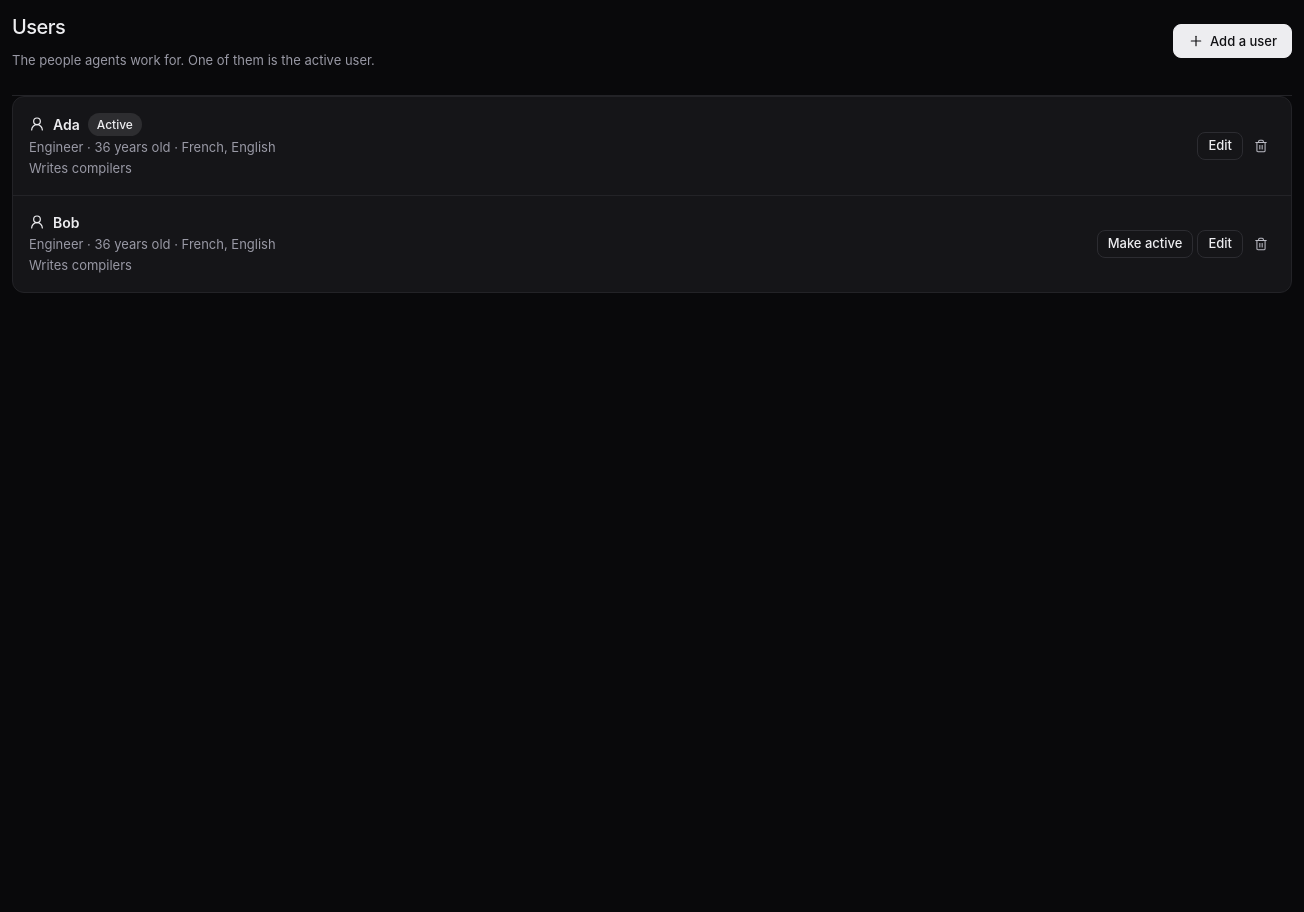
Scenario: UsersPage › switches the active user
The image size is (1304, 912).
Click the button with aria-label "Make Bob active" at (1145, 244), box [1097, 230, 1193, 258]
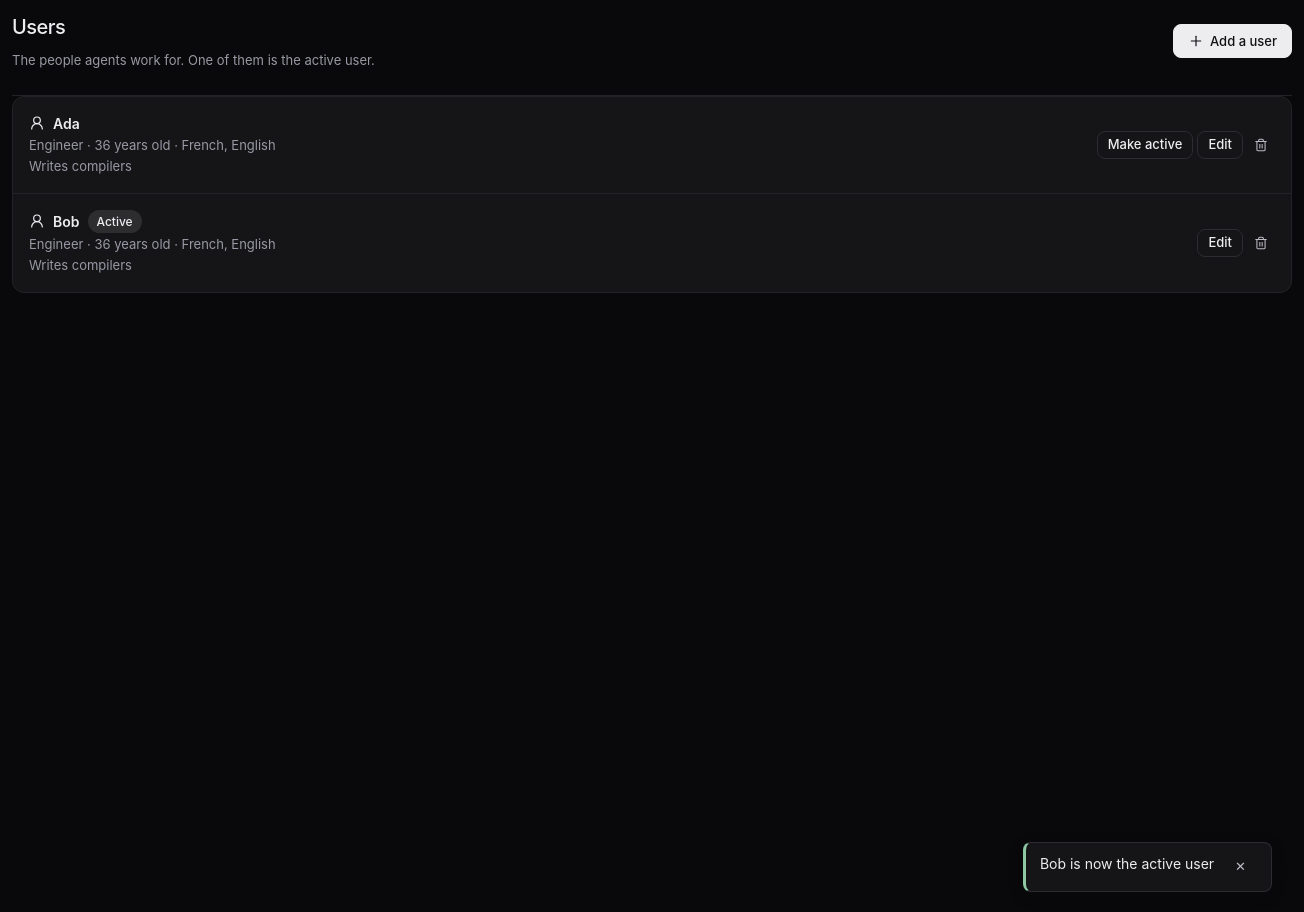
Result: the button with aria-label "Make Ada active" is shown at [1097, 131, 1193, 159]
